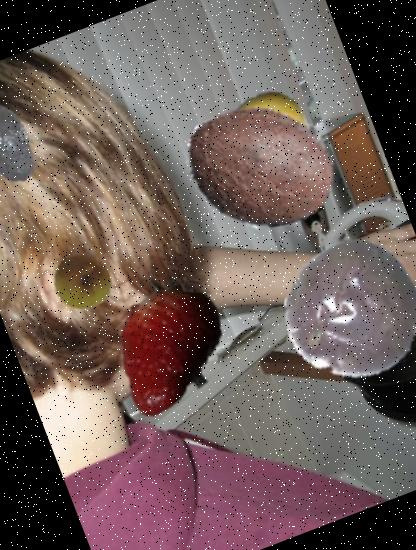Avocado: (0, 88, 58, 199)
Cocos: (162, 70, 356, 264)
Maracuja: (218, 79, 321, 182)
Passion: (262, 214, 416, 403)
Peach: (44, 244, 120, 320)
Strawberry: (80, 257, 248, 424)
